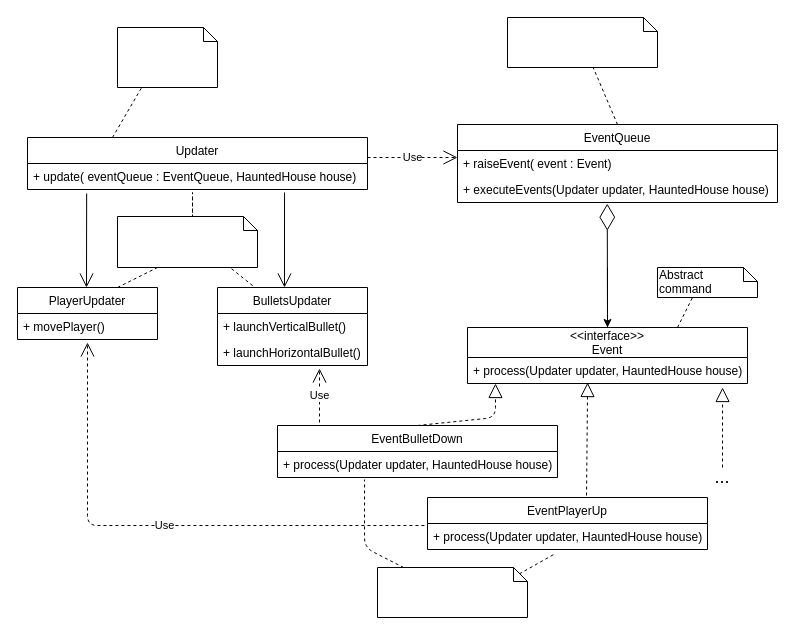
The diagram is 795 pixels wide and 635 high, and some of its shapes have lost their labels. The centre of each missing label's shape, as x and y in pixels:
Client; uses the queue and consumes all the events: the point at 167,57
Concrete commands; perform certain operations by using the receivers: the point at 452,592
Invoker; contains all the current events/commands, and can execute them: the point at 582,42
Receivers; the commands use some of their functions: the point at 187,242
